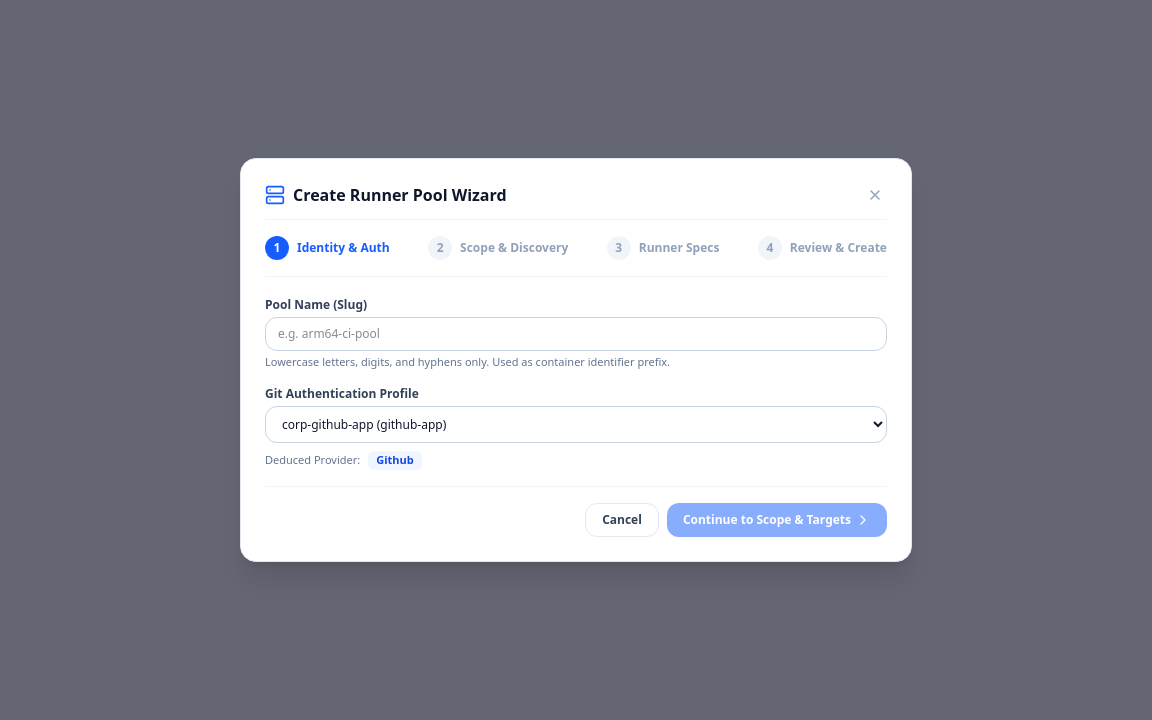
Test: CreatePoolWizardModal › locks docker-in-docker when provider is Forgejo or Gitea
Note: Switch to internal-forgejo
Select "internal-forgejo (forgejo-token)" in the dropdown labelled "Git Authentication Profile": (576, 424) [265,406,887,443]
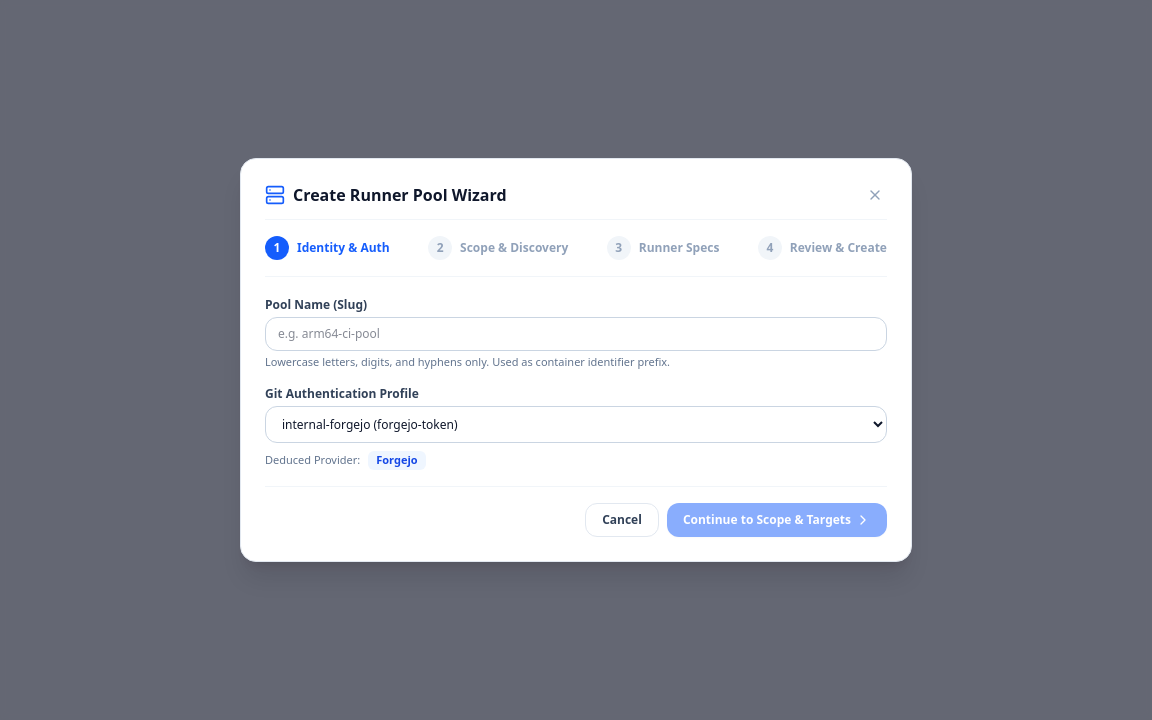
Now the text "forgejo" is shown, box [368,451,426,470]
In the field labelled "Pool Name (Slug)": (576, 334) [265,317,887,351], type "forgejo-pool"
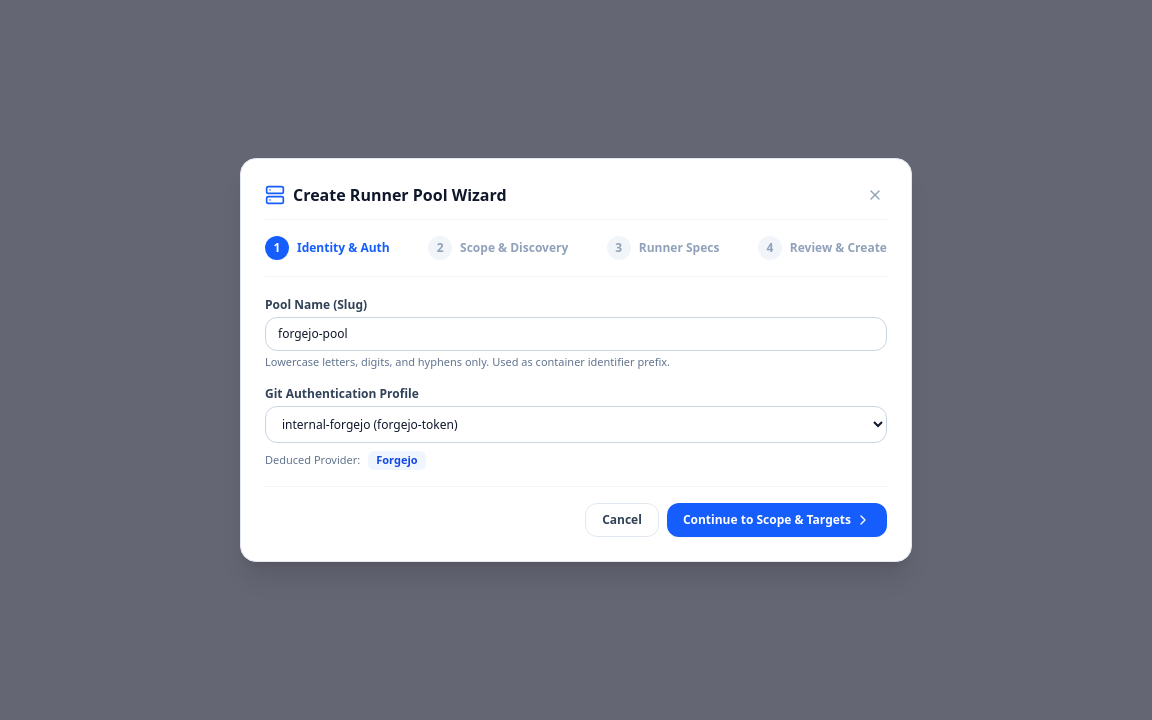
Click the button "Continue to Scope & Targets": (777, 520) [667,503,887,537]
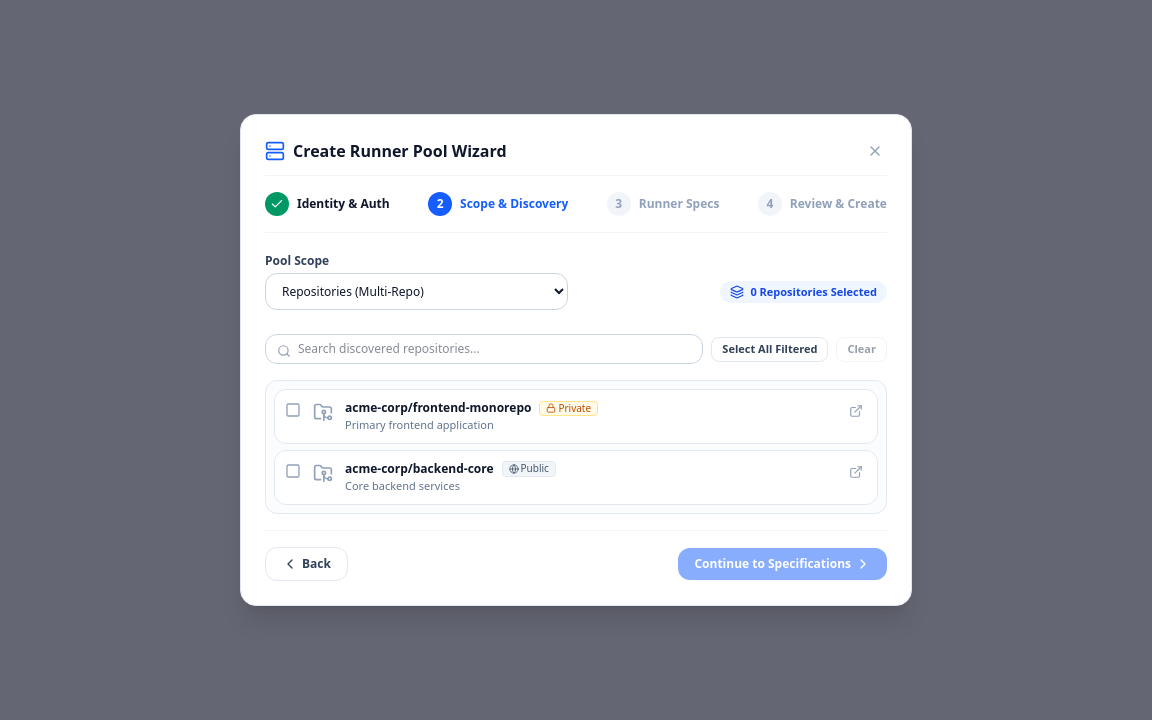
Click the button "Select All Filtered": (770, 349) [711,337,828,362]
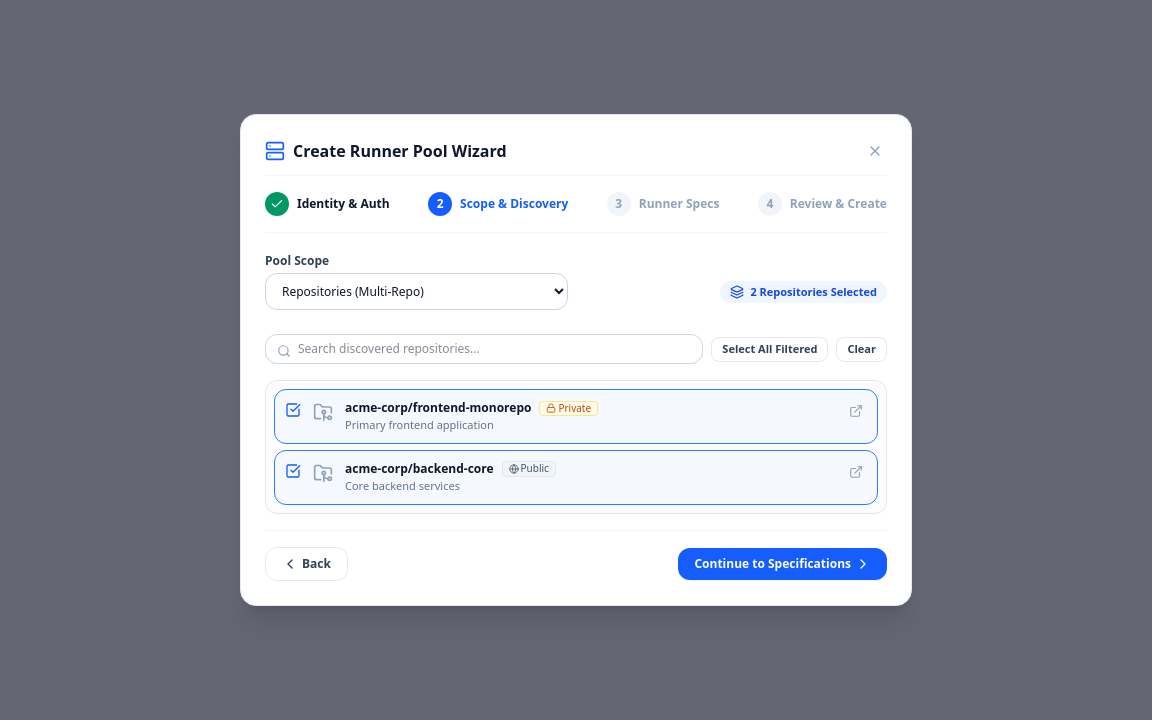
Click the button "Continue to Specifications": (783, 564) [678,548,887,580]
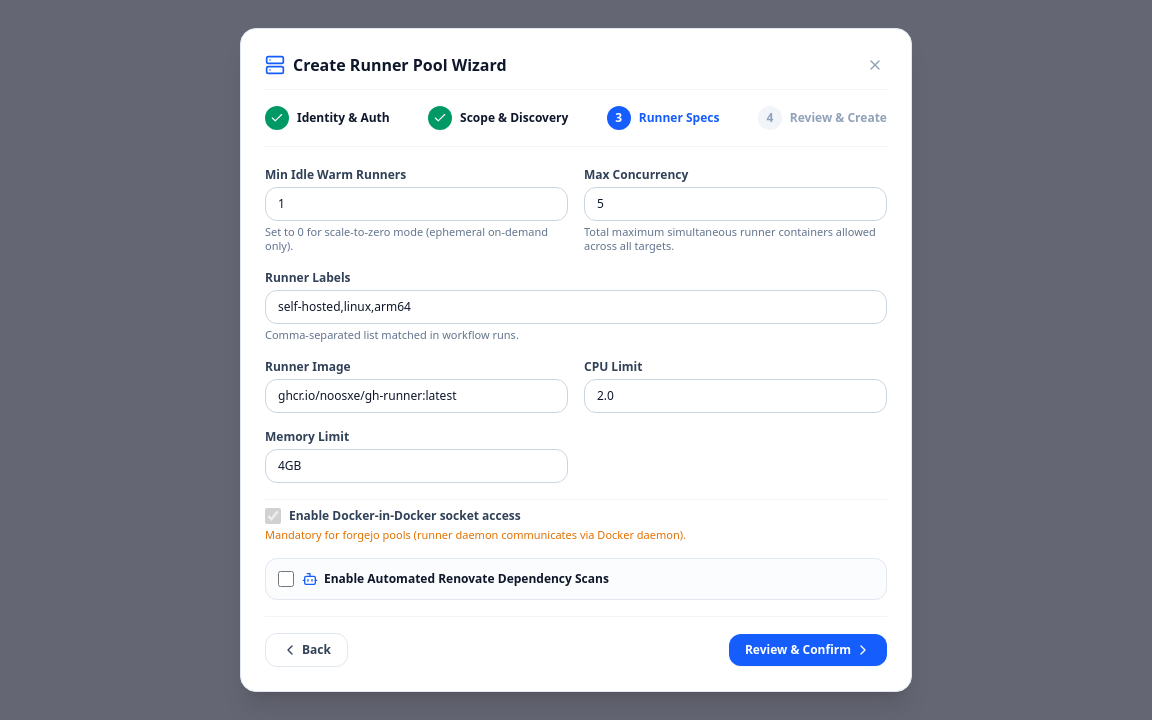
Now the checkbox labelled "Enable Docker-in-Docker socket access" is checked, box [265,508,281,524]
Now the checkbox labelled "Enable Docker-in-Docker socket access" is disabled, box [265,508,281,524]
